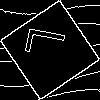L: (25, 25, 75, 61)
